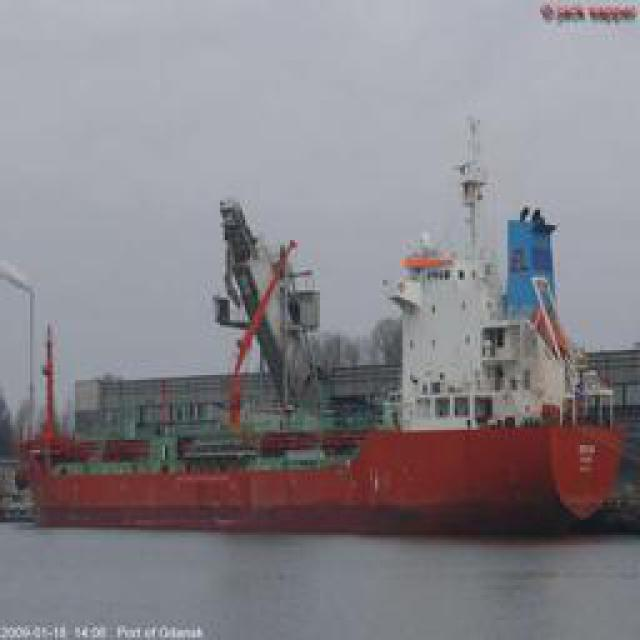Ship: (24, 144, 624, 529)
